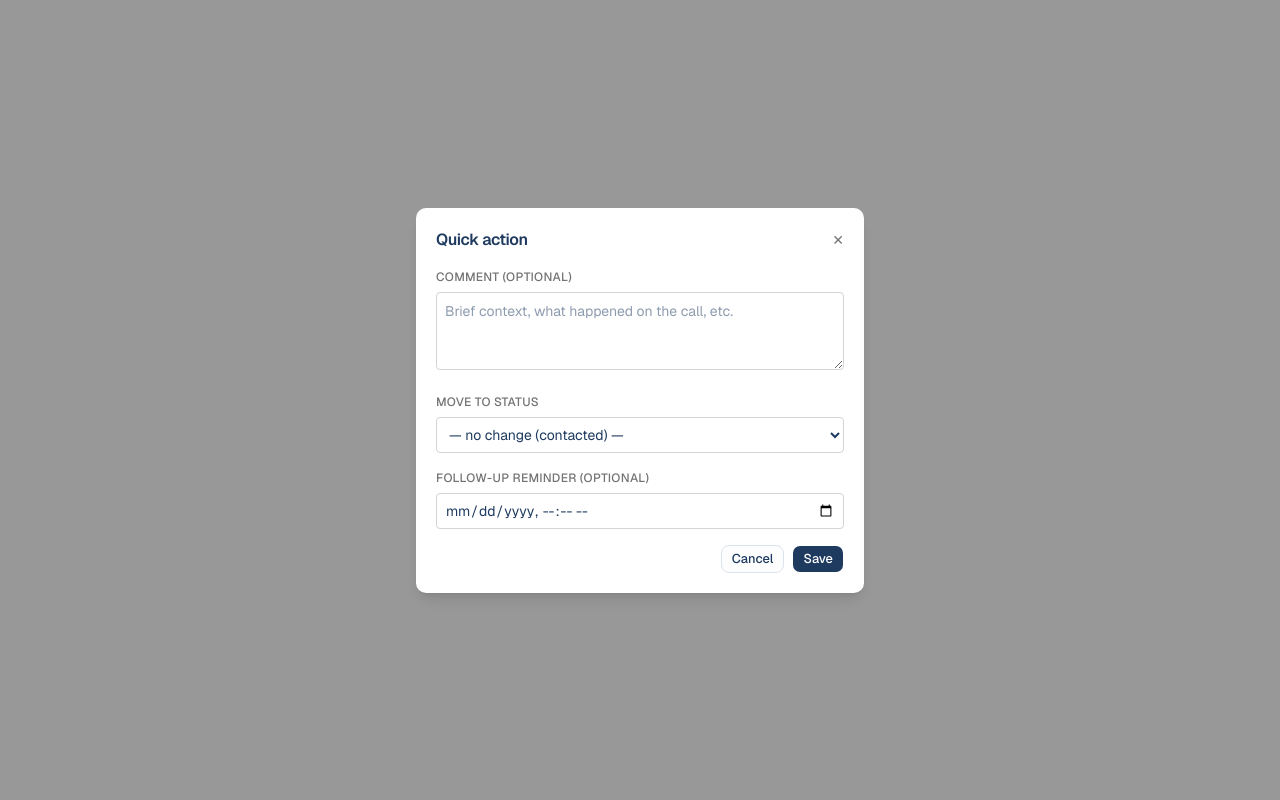
<QuickActionModal> › reveals the reason field when target_state is terminal
Step 1. Select "lost" in the dropdown with test id "quick-action-status" → (640, 434), box [436,416,844,452]
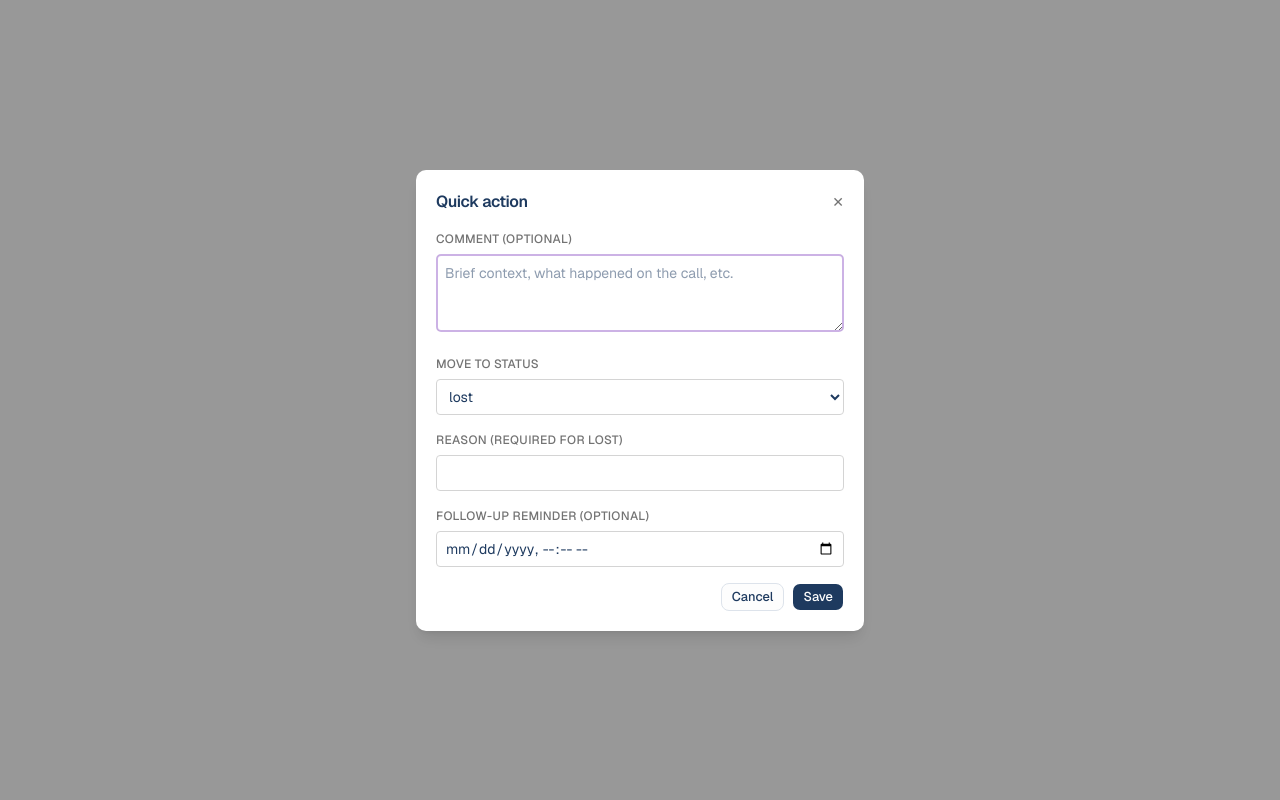
Now the field with test id "quick-action-reason" is shown, box [436,454,844,490]
